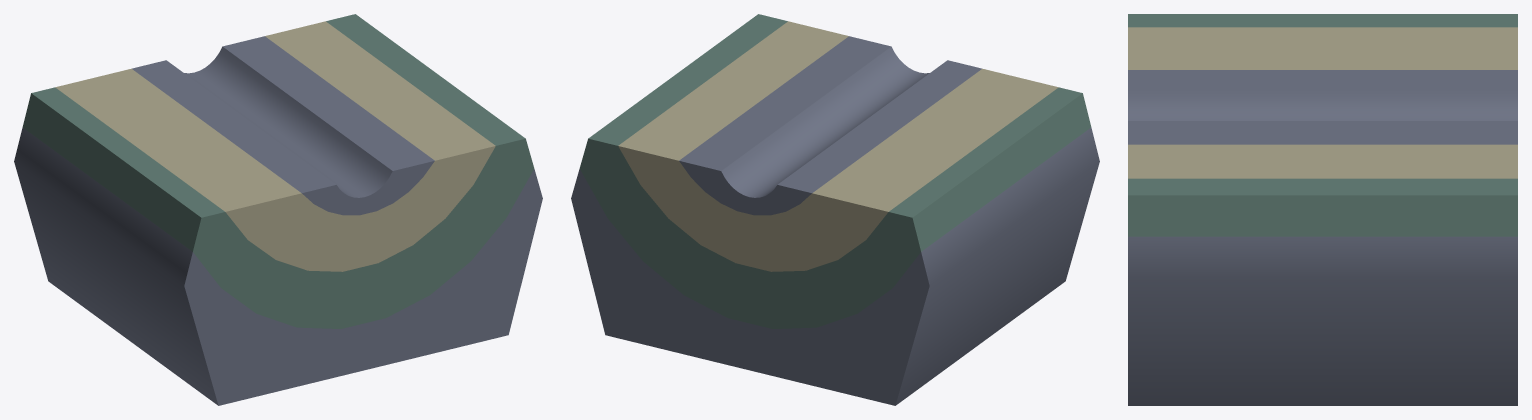
The model's file is Junk_2.fbx.
3 renders of one model, left to right at view 1: azimuth 30°, elevation 25°; view 2: azimuth 150°, elevation 25°; view 3: azimuth 270°, elevation 25°, orthographic. The views are drawn at different scales.
Visible parts, largest first — view 1: Model; view 2: Model; view 3: Model.
Part boxes in pixels (<box>): Model: <box>14,14,542,405</box>; Model: <box>571,14,1099,405</box>; Model: <box>1128,14,1517,405</box>.
Size of the model in its own units: 79.77 by 40.89 by 65.59.
